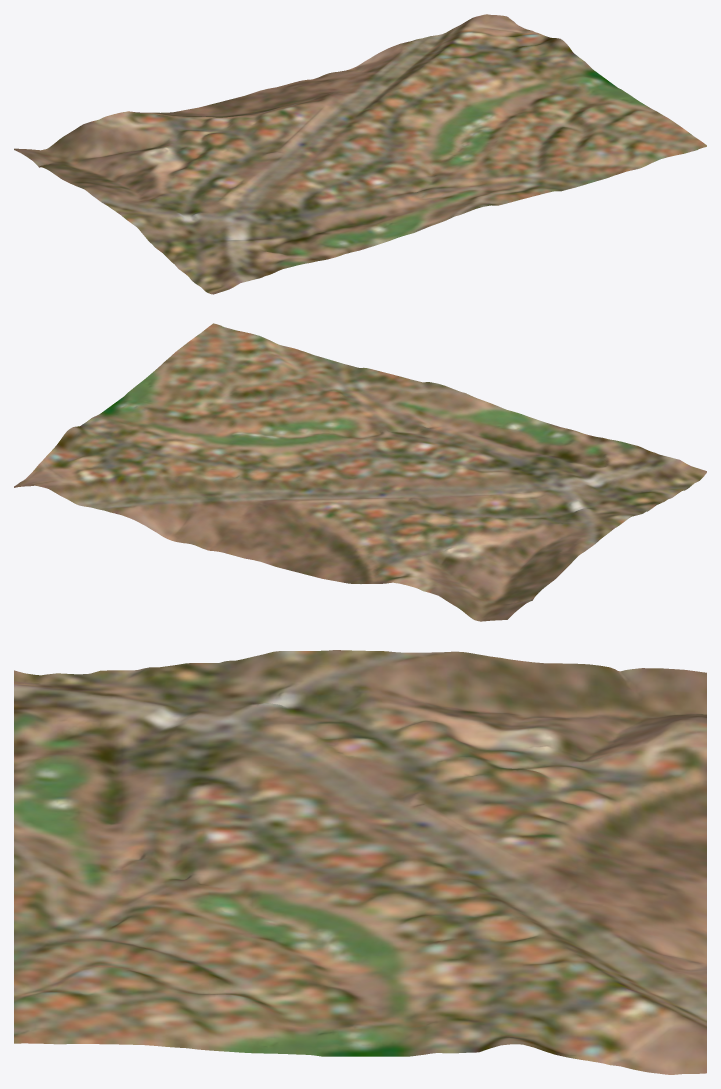
Rendered from terrain_r6_c1.glb.
The picture shows the model from 3 angles, top to bottom: view 1: azimuth 30°, elevation 25°; view 2: azimuth 150°, elevation 25°; view 3: azimuth 270°, elevation 25°; orthographic projection. The views are drawn at different scales.
Visible parts, largest first — view 1: terrain_r6_c1_lod0; view 2: terrain_r6_c1_lod0; view 3: terrain_r6_c1_lod0.
Part boxes in pixels (box(x1,y1,x2,y2)): terrain_r6_c1_lod0: box(14, 14, 706, 294); terrain_r6_c1_lod0: box(14, 323, 706, 621); terrain_r6_c1_lod0: box(14, 650, 706, 1074).
Bounding box in the file's own units: 1125 × 83.98 × 787.
Materials: 1 (1 with a texture image).
